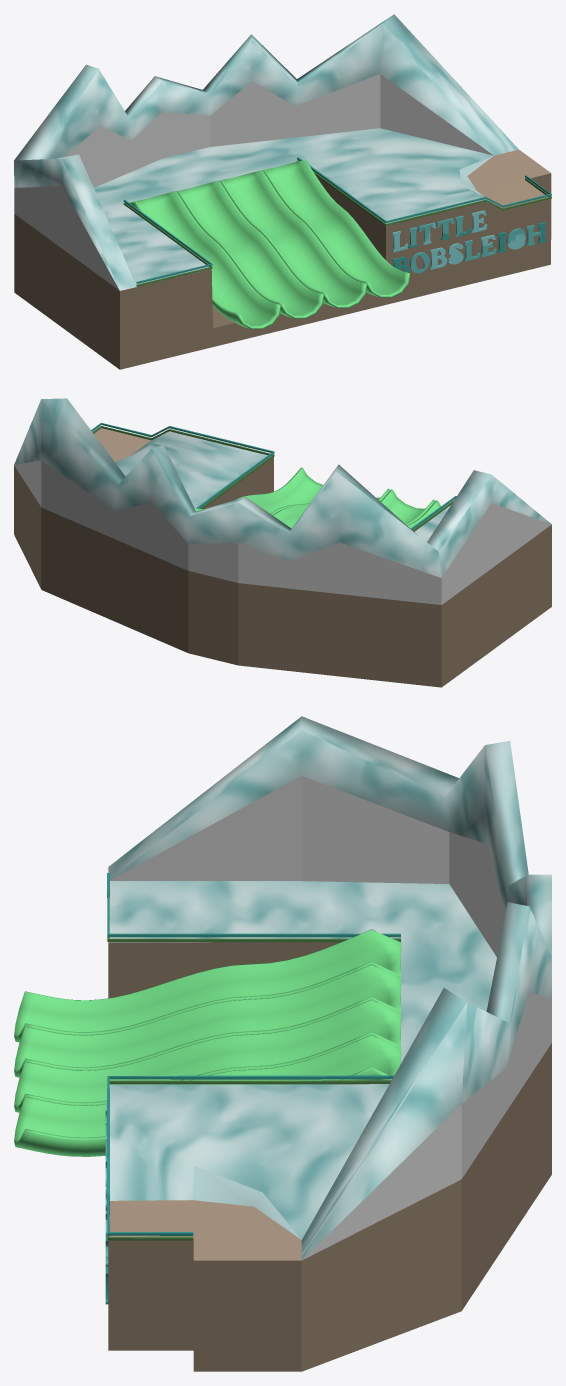
Rendered from LittleBobsleigh.fbx.
The picture shows the model from 3 angles, top to bottom: view 1: azimuth 30°, elevation 25°; view 2: azimuth 150°, elevation 25°; view 3: azimuth 270°, elevation 25°; orthographic projection. The views are drawn at different scales.
Parts seen in each view (by area): view 1: LittleBoblseigh, BobsleighToboggan, LittleBoblseighText.001, LittleBoblseighBarriers; view 2: LittleBoblseigh, BobsleighToboggan, LittleBoblseighBarriers; view 3: LittleBoblseigh, BobsleighToboggan, LittleBoblseighBarriers.
Boxes of the visible parts, x1,y1,x2,y2 form: LittleBoblseigh: (14,14,551,369); BobsleighToboggan: (129,160,409,329); LittleBoblseighText.001: (392,210,546,273); LittleBoblseighBarriers: (123,157,551,286); LittleBoblseigh: (14,398,551,687); BobsleighToboggan: (194,467,440,528); LittleBoblseighBarriers: (91,423,456,531); LittleBoblseigh: (108,716,551,1371); BobsleighToboggan: (14,929,401,1156); LittleBoblseighBarriers: (107,873,400,1240).
Size of the model in its own units: 430 by 262 by 176.
